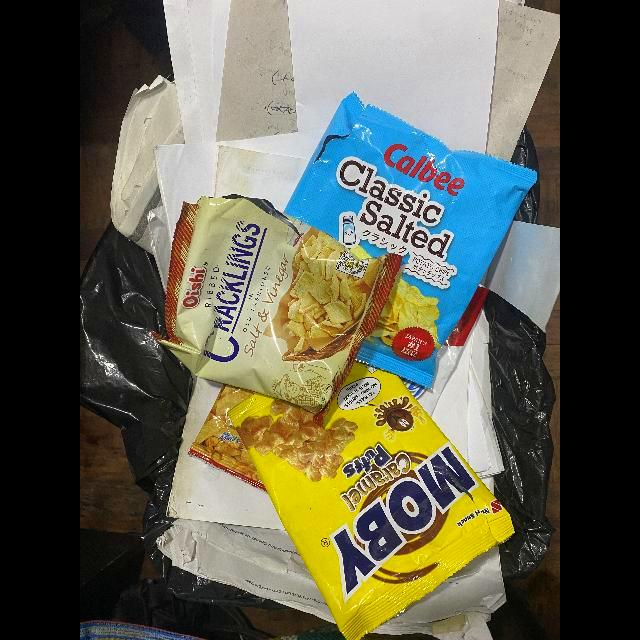food_wrapper: (188, 224, 490, 540), (228, 326, 515, 639), (240, 90, 538, 389), (152, 193, 402, 432)
